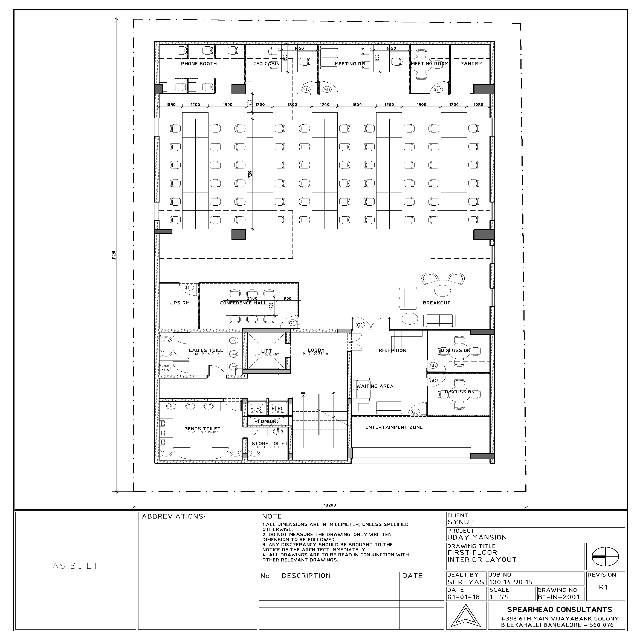door: (351, 316, 372, 331), (408, 401, 428, 416), (319, 80, 339, 94), (430, 80, 449, 94), (372, 316, 391, 330), (297, 81, 317, 94), (223, 399, 243, 412), (281, 315, 299, 329), (172, 331, 190, 345), (179, 283, 198, 296), (428, 374, 447, 387), (211, 447, 230, 460), (428, 359, 446, 372), (172, 347, 190, 359), (208, 365, 227, 376), (174, 447, 190, 460), (172, 361, 189, 373), (242, 427, 259, 438), (349, 332, 363, 342), (349, 342, 363, 351)
